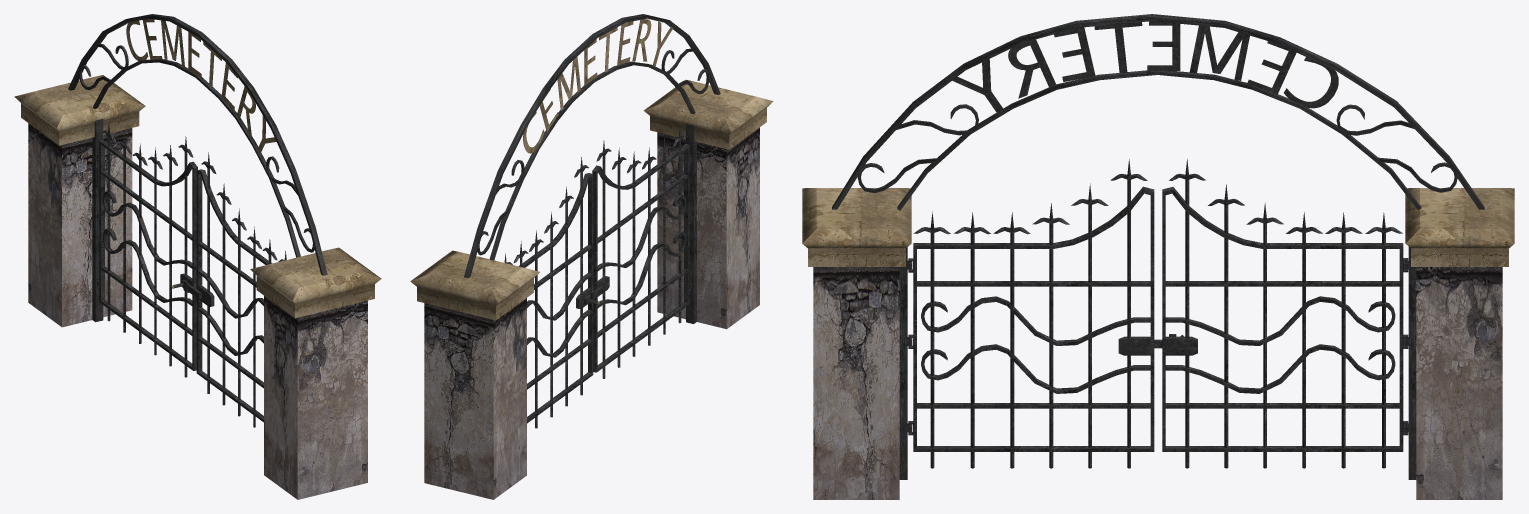
The model's file is FrontGate.fbx.
The picture shows the model from 3 angles, left to right: view 1: azimuth 30°, elevation 25°; view 2: azimuth 150°, elevation 25°; view 3: azimuth 270°, elevation 25°; orthographic projection. The views are drawn at different scales.
Parts seen in each view (by area): view 1: Posts, Left_Gate, Sign, Right_Gate; view 2: Posts, Right_Gate, Sign, Left_Gate; view 3: Posts, Right_Gate, Left_Gate, Sign.
Part boxes in pixels (box(x1,y1,x2,y2)): Posts: box(14, 75, 381, 499); Left_Gate: box(97, 121, 197, 377); Sign: box(68, 14, 327, 275); Right_Gate: box(196, 152, 286, 427); Posts: box(410, 80, 773, 499); Right_Gate: box(592, 125, 690, 378); Sign: box(464, 14, 720, 278); Left_Gate: box(504, 157, 595, 428); Posts: box(802, 188, 1514, 499); Right_Gate: box(908, 159, 1154, 468); Left_Gate: box(1162, 159, 1408, 468); Sign: box(832, 14, 1484, 210).
Size of the model in its own units: 1.53 by 5.92 by 8.27.
